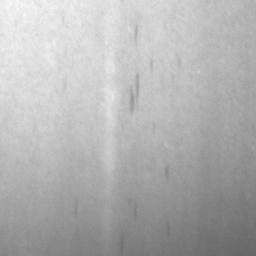Inclusion: (128, 72, 141, 111)
